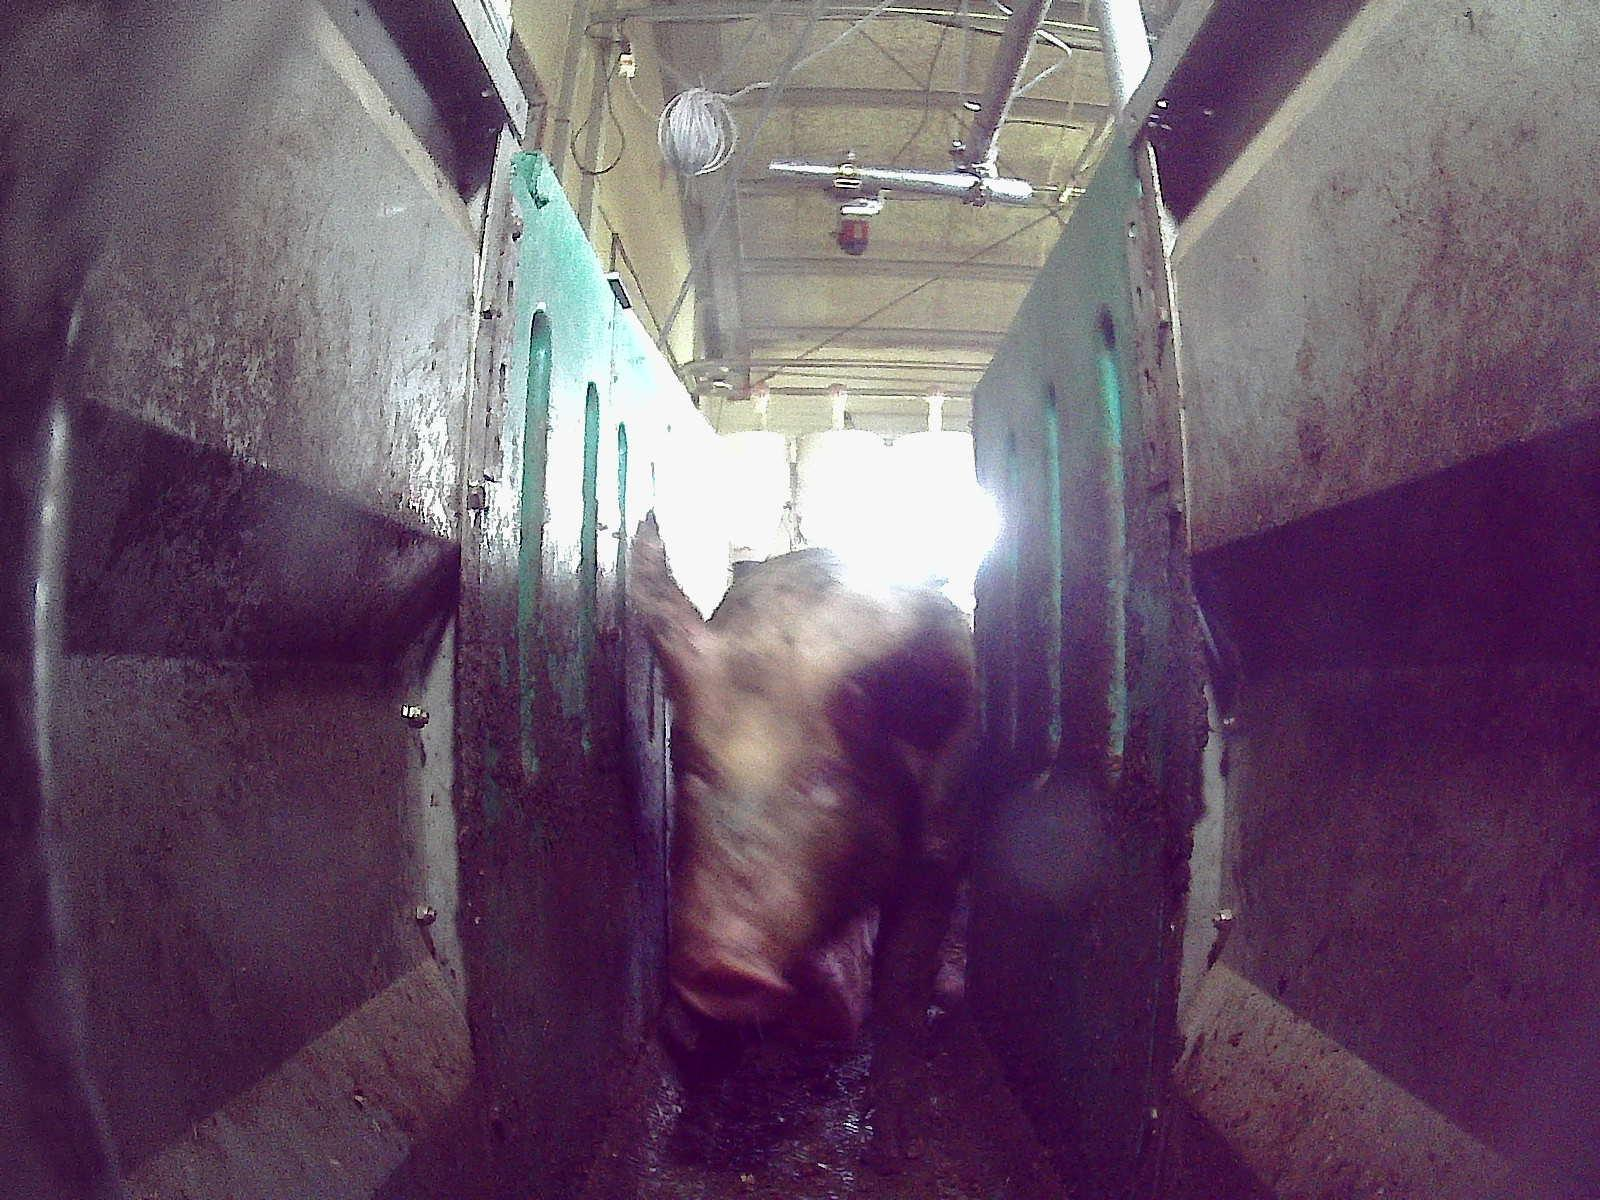Face: (667, 670, 881, 1019)
